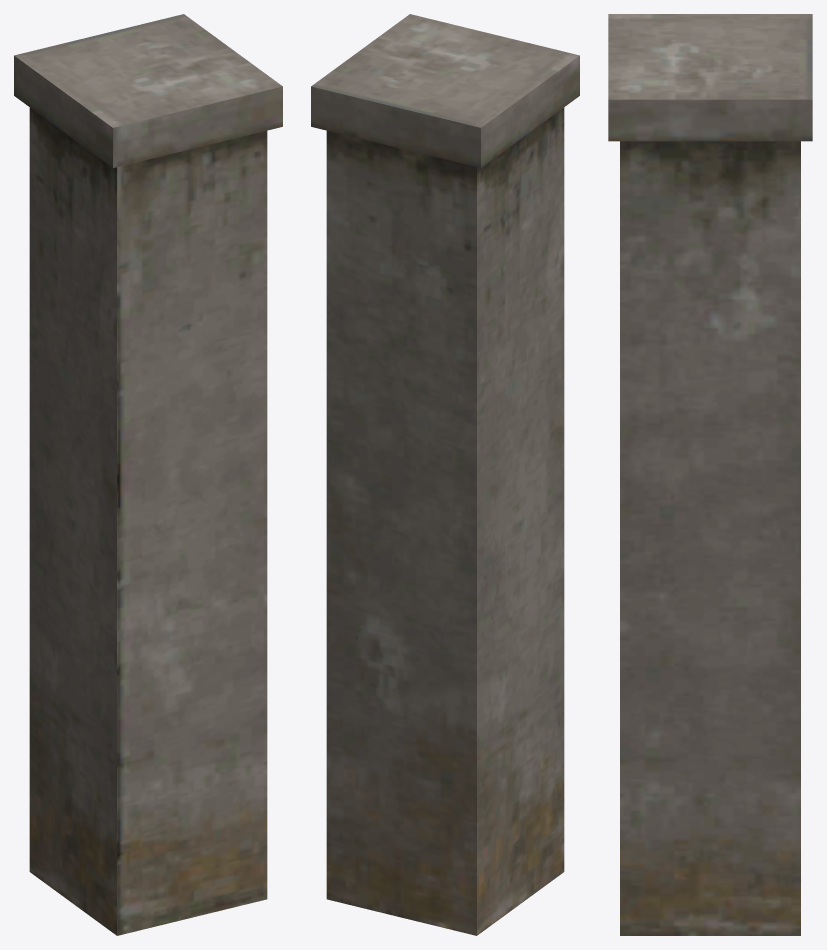
File: Concrete_fence_v1_column.fbx
3 views of the same model, side by side, from view 1: azimuth 30°, elevation 25°; view 2: azimuth 150°, elevation 25°; view 3: azimuth 270°, elevation 25° (orthographic). The views are drawn at different scales.
Parts seen in each view (by area): view 1: Concrete_fence_v1_column; view 2: Concrete_fence_v1_column; view 3: Concrete_fence_v1_column.
Boxes of the visible parts, x1,y1,x2,y2 form: Concrete_fence_v1_column: (14, 14, 282, 935); Concrete_fence_v1_column: (311, 14, 579, 935); Concrete_fence_v1_column: (608, 14, 812, 935).
Bounding box in the file's own units: 71.98 × 330 × 72.63.
